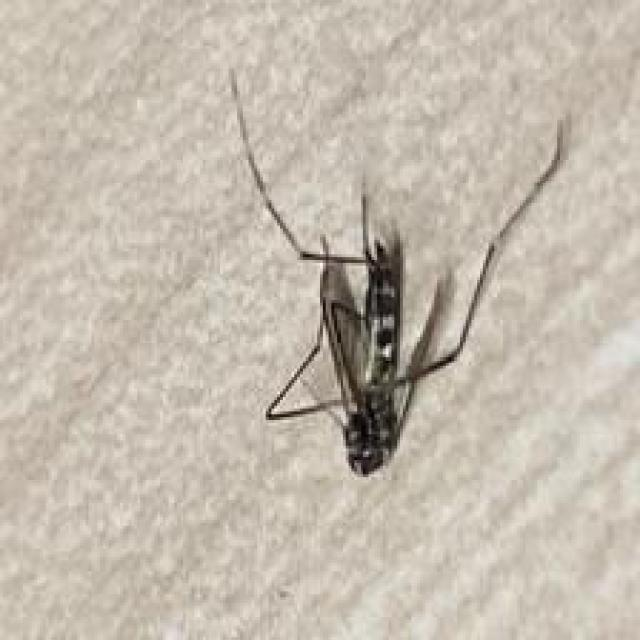Aedes albopictus: (226, 67, 571, 479)
